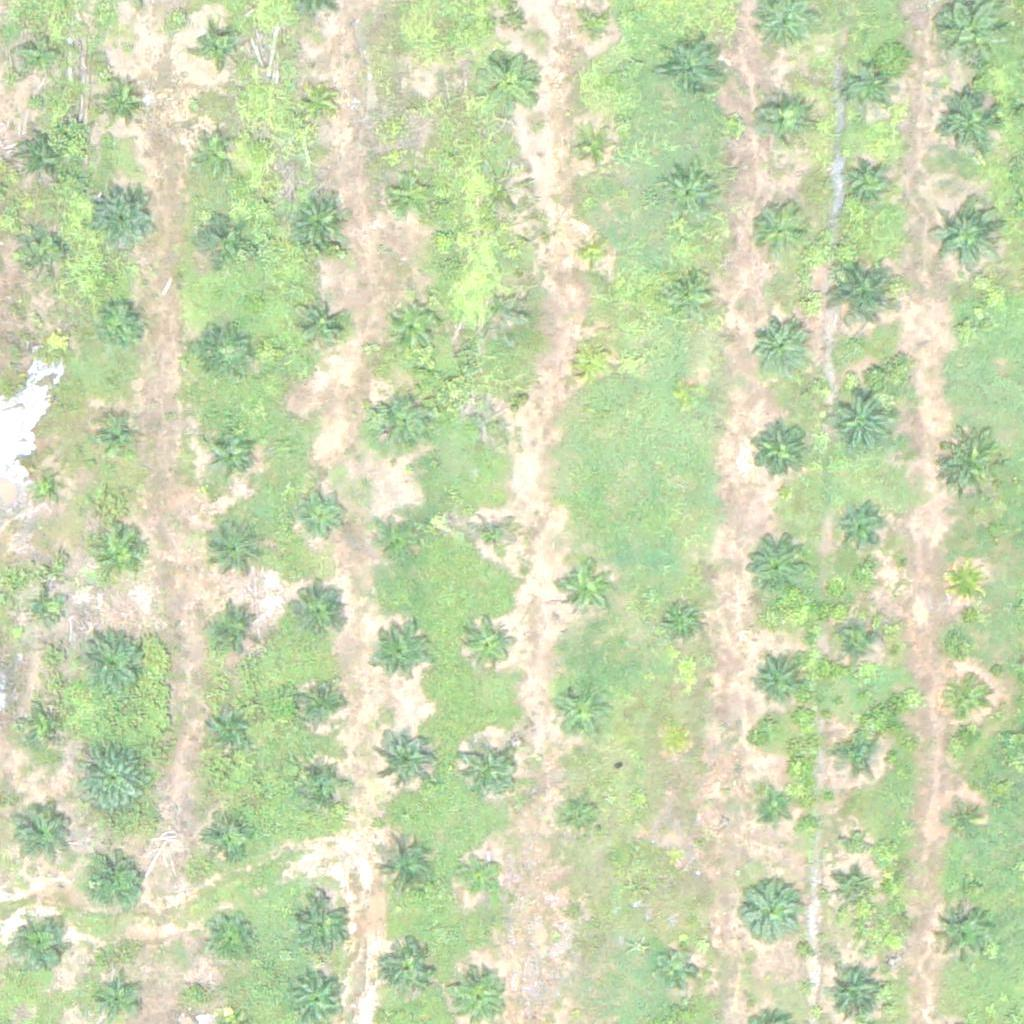Kelapa_Sawit: (820, 249, 907, 337), (73, 625, 148, 701), (77, 843, 152, 919), (77, 739, 152, 815), (928, 200, 1003, 276), (823, 380, 898, 455), (737, 876, 800, 939), (6, 798, 69, 861), (548, 680, 611, 743), (291, 894, 354, 957), (746, 198, 809, 261), (749, 315, 812, 378), (940, 432, 1003, 495), (207, 518, 270, 581), (365, 389, 428, 452), (664, 34, 727, 97), (555, 557, 618, 620), (94, 187, 157, 250), (660, 164, 723, 227), (9, 22, 72, 85), (286, 587, 349, 650), (370, 625, 432, 688), (371, 838, 433, 901), (458, 739, 520, 802), (374, 722, 436, 785), (743, 535, 805, 598), (747, 418, 809, 481), (940, 92, 1002, 155), (942, 2, 1005, 64), (821, 960, 883, 1023), (931, 904, 993, 967), (289, 191, 351, 254), (383, 292, 445, 355), (479, 52, 541, 115), (464, 618, 514, 669), (749, 656, 799, 707), (826, 726, 876, 777), (201, 326, 251, 377), (199, 208, 249, 259), (19, 130, 69, 181), (95, 73, 145, 124), (20, 224, 70, 275), (96, 297, 146, 348), (294, 297, 344, 348), (468, 512, 518, 563), (380, 510, 430, 561), (298, 487, 348, 538), (206, 429, 256, 480), (17, 923, 67, 973), (203, 906, 253, 956), (202, 810, 252, 860), (384, 941, 434, 991), (454, 973, 504, 1023), (758, 97, 808, 147), (830, 506, 880, 556), (95, 531, 145, 581), (663, 265, 713, 315), (827, 869, 877, 919), (831, 620, 881, 670), (389, 168, 439, 218), (192, 128, 242, 178), (296, 676, 346, 726), (298, 760, 348, 810), (204, 696, 254, 746), (209, 601, 259, 651), (91, 414, 141, 464), (839, 158, 888, 209), (95, 979, 133, 1017), (946, 563, 984, 601), (948, 685, 986, 723), (947, 805, 985, 843), (576, 9, 614, 47), (574, 128, 612, 166), (576, 235, 614, 273), (572, 335, 610, 373), (298, 82, 336, 120), (201, 27, 239, 65), (663, 606, 701, 644), (459, 858, 497, 896), (849, 67, 886, 105), (754, 789, 791, 827), (396, 89, 433, 127), (479, 387, 516, 425), (562, 795, 599, 832), (657, 945, 694, 982), (35, 716, 60, 742), (956, 315, 981, 340), (28, 471, 53, 496), (33, 599, 58, 624)
